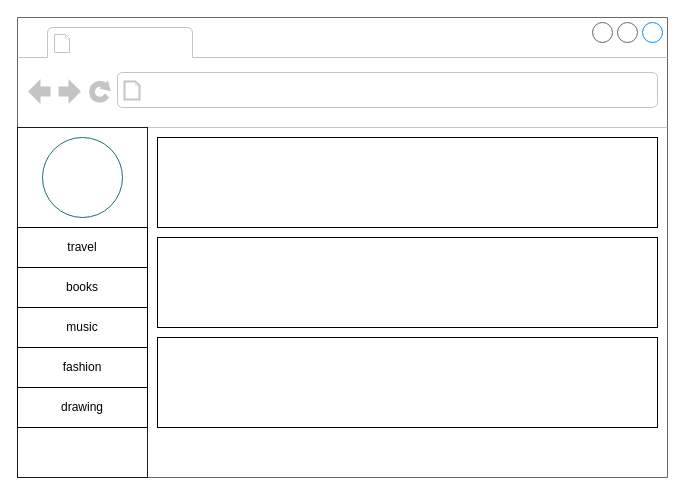
Some shapes in this 685 by 495 pixel diagram are drawn without their labels. Here are the shapes that lost their labels. From the top down, the centre of each, then its label:
[132,42]: Chien Bui Blog
[272,90]: https://.../interests
[82,177]: image
